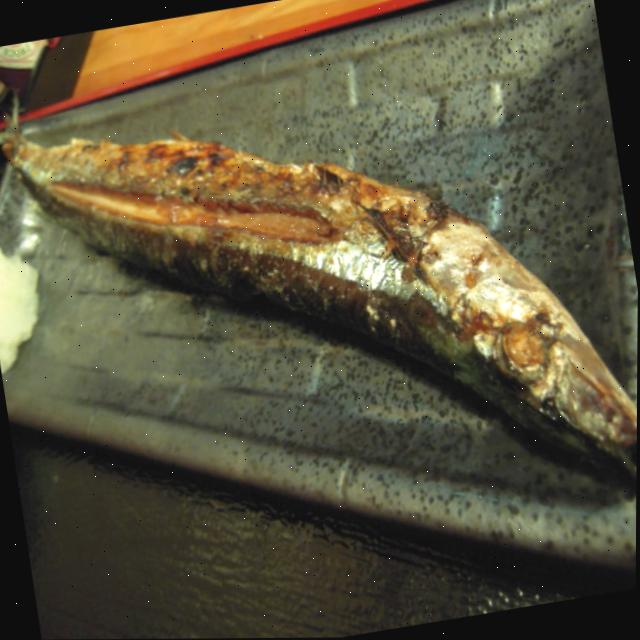熟制海鲜: (0, 17, 640, 618)
